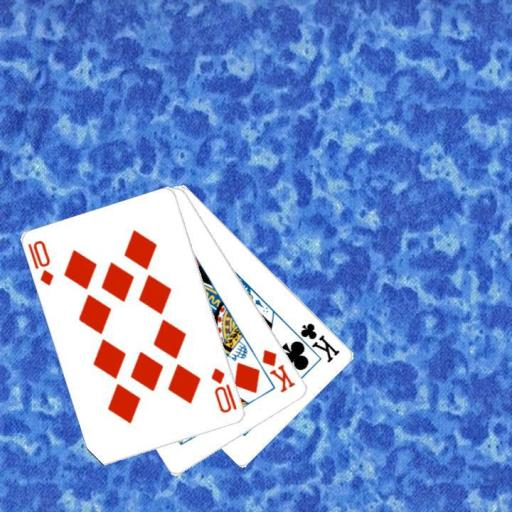10D: (208, 365, 239, 415), (25, 237, 55, 287)
KC: (288, 319, 342, 365)
KD: (259, 346, 297, 395)
